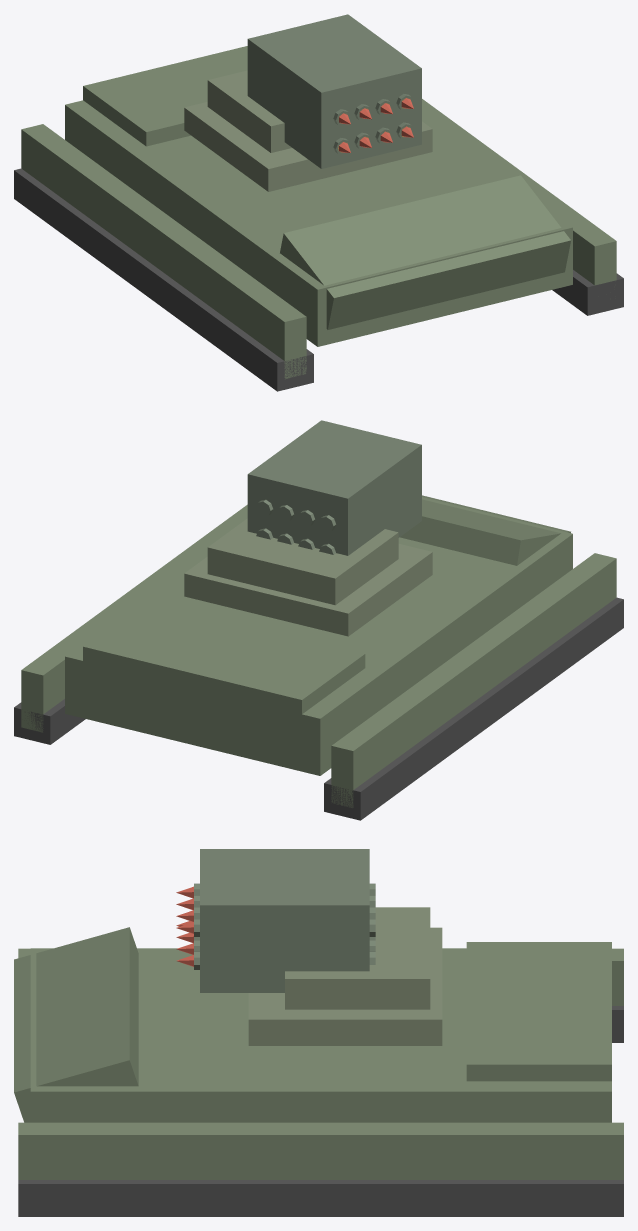
Rendered from rocket-tank.glb.
3 views of the same model, one above another, from view 1: azimuth 30°, elevation 25°; view 2: azimuth 150°, elevation 25°; view 3: azimuth 270°, elevation 25° (orthographic). The views are drawn at different scales.
Parts seen in each view (by area): view 1: Hull, Barrel, Turret; view 2: Hull, Barrel, Turret; view 3: Hull, Barrel, Turret.
Boxes of the visible parts, x1,y1,x2,y2 form: Hull: (14, 46, 623, 391); Barrel: (247, 14, 421, 168); Turret: (184, 70, 432, 191); Hull: (14, 495, 623, 820); Barrel: (247, 420, 421, 555); Turret: (184, 518, 432, 636); Hull: (14, 927, 623, 1216); Barrel: (176, 849, 375, 992); Turret: (248, 907, 442, 1045).
Bounding box in the file's own units: 1.9 × 1.13 × 2.52.
